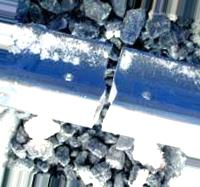tracks_fault: (83, 30, 127, 143)
